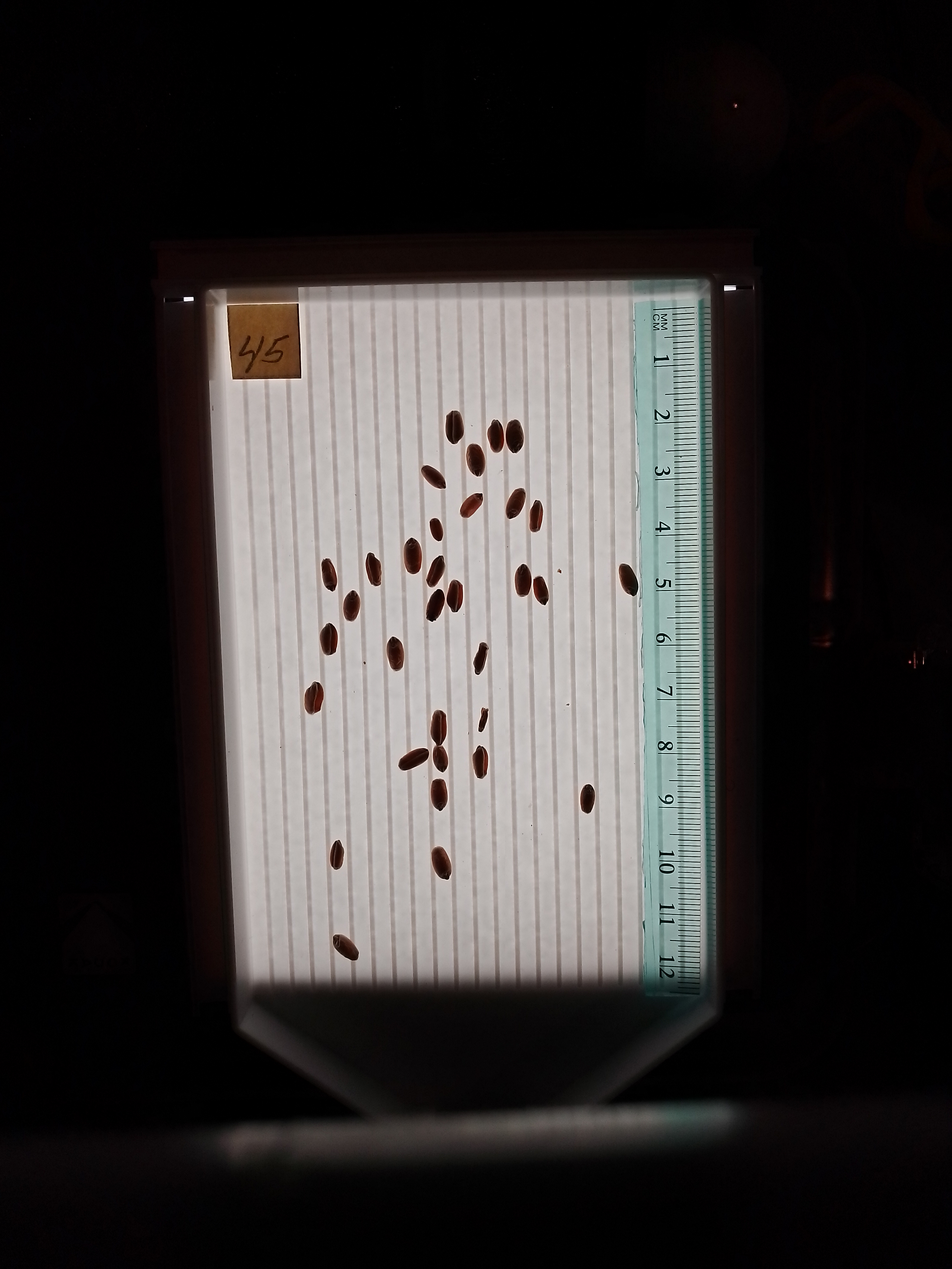seed mask: (399, 748, 429, 771), (403, 538, 422, 574), (333, 934, 358, 961), (618, 564, 639, 595), (432, 847, 452, 879), (506, 419, 524, 454), (304, 683, 324, 714), (446, 411, 464, 444), (466, 445, 485, 476), (387, 637, 404, 671), (426, 591, 445, 621), (506, 489, 525, 519), (514, 565, 532, 596), (421, 466, 445, 489), (460, 493, 482, 518), (365, 554, 382, 586), (320, 624, 338, 654), (427, 556, 445, 586), (488, 420, 504, 453), (473, 746, 489, 778), (321, 559, 337, 591), (431, 779, 447, 810), (447, 581, 463, 612), (431, 711, 446, 744), (343, 592, 360, 621), (329, 841, 345, 870), (474, 644, 489, 674), (580, 785, 596, 813), (533, 577, 549, 605), (529, 501, 543, 532), (433, 746, 447, 772), (429, 518, 444, 541), (478, 708, 488, 733)
